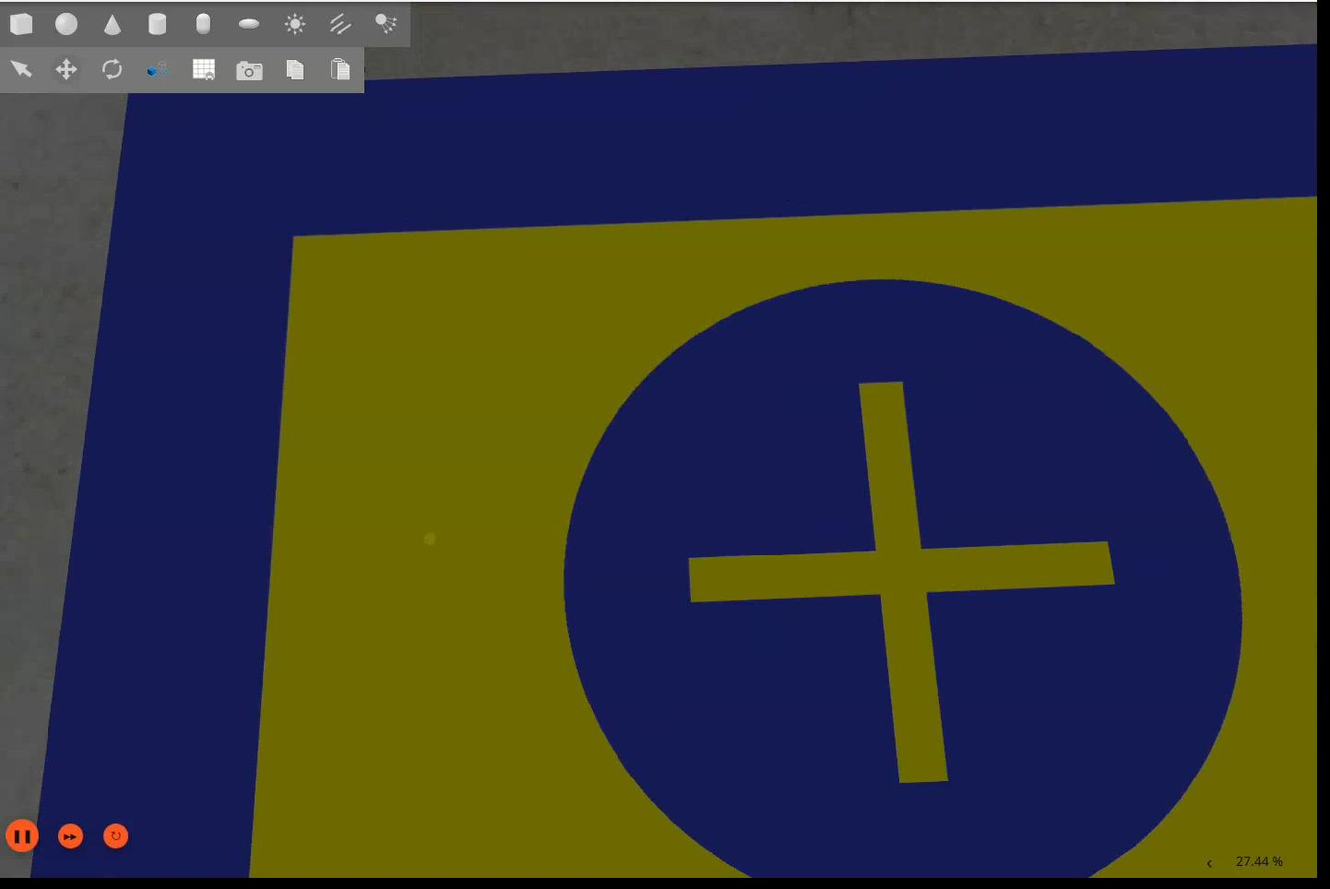large_base: (32, 45, 1319, 883)
